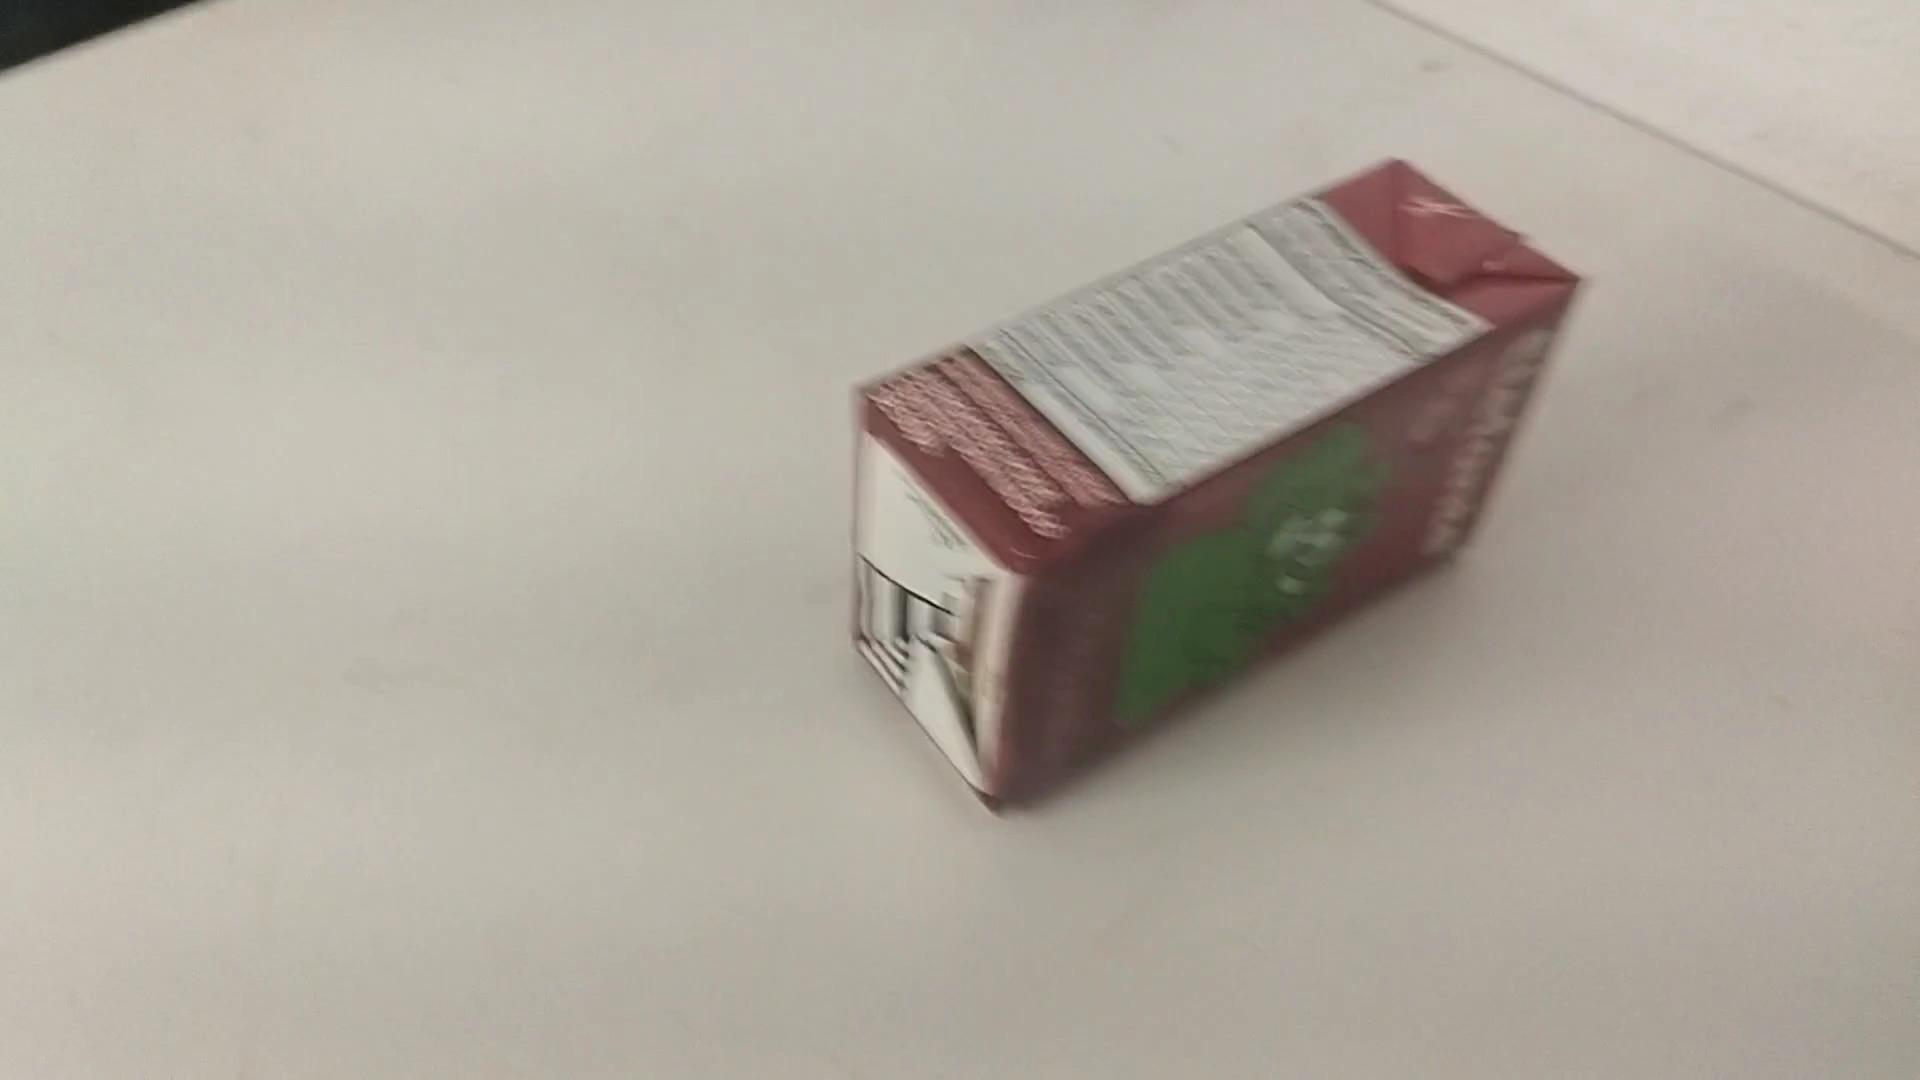tomate: (836, 145, 1584, 820)
